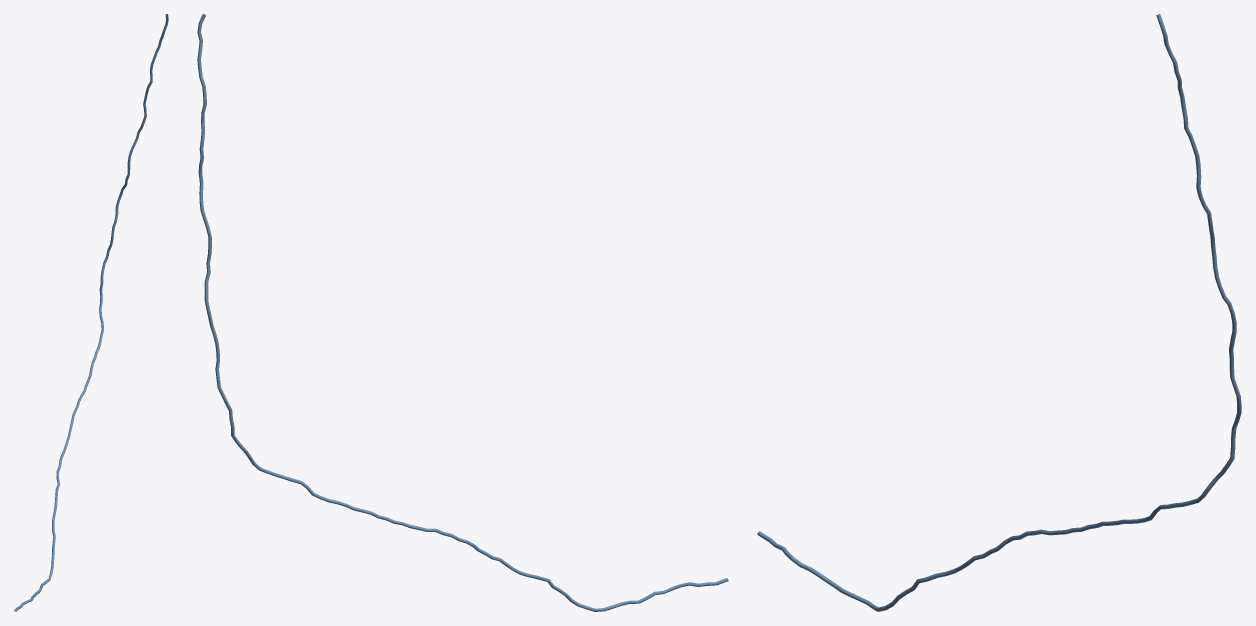
Rendered from sweep156.fbx.
3 views of the same model, side by side, from view 1: azimuth 30°, elevation 25°; view 2: azimuth 150°, elevation 25°; view 3: azimuth 270°, elevation 25° (orthographic). The views are drawn at different scales.
Visible parts, largest first — view 1: sweep156; view 2: sweep156; view 3: sweep156.
Boxes of the visible parts, left/top/right/bottom form: sweep156: left=14, top=14, right=168, bottom=611; sweep156: left=197, top=14, right=728, bottom=611; sweep156: left=757, top=14, right=1241, bottom=611.
Bounding box in the file's own units: 2.35 × 3.74 × 2.15.
